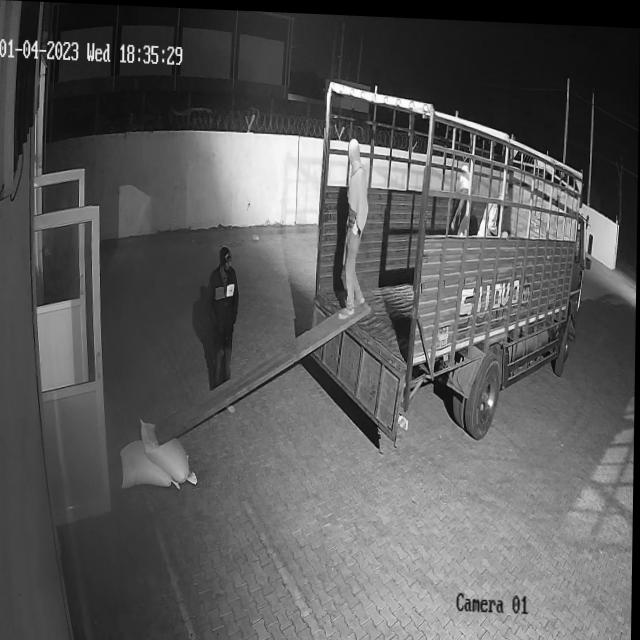sack: (139, 416, 200, 482), (119, 438, 182, 489)
